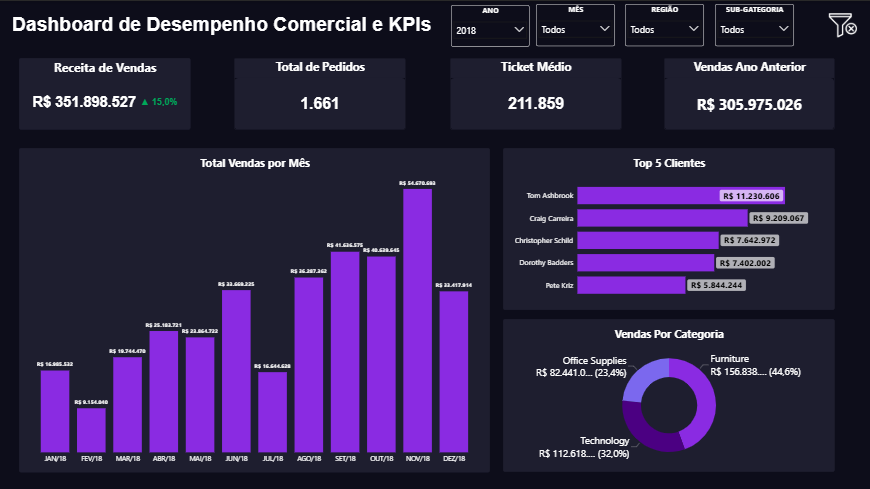

The page's visual inventory and layout, read from the dashboard file:
{"tool":"powerbi","page":{"name":"Home","canvas":[1920,1080],"ordinal":0},"visuals":[{"type":"htmlContent443BE3AD55E043BF878BED274D3A6855","title":"Receita de Vendas","fields":{"content":["Medidas - Vendas.Vendas com Card"]},"box":[43.5,126,378,158.1],"z":0},{"type":"textbox","box":[29.4,25.7,933.1,79],"z":1000},{"type":"slicer","title":"ANO","fields":{"Values":["Calendario.Date.Variation.Hierarquia de datas.Ano1"]},"box":[995.5,9.2,172.7,91.8],"z":2000},{"type":"slicer","title":"REGIÃO","fields":{"Values":["D_Região.Region"]},"box":[1378.8,7.5,173.8,92.5],"z":3000},{"type":"clusteredColumnChart","title":"Total Vendas por Mês","fields":{"Y":["Medidas - Vendas.Total Vendas"],"Category":["Calendario.MesConcat"]},"box":[43.5,323.1,1037.9,714.8],"z":4000},{"type":"cardVisual","title":"Total de Pedidos","fields":{"Data":["Medidas - Vendas.Total Pedidos"]},"box":[517.8,126,378,158.1],"z":5000},{"type":"cardVisual","title":"Ticket Médio","fields":{"Data":["Medidas - Vendas.Ticket Médio"]},"box":[994.4,126,378,158.1],"z":6000},{"type":"cardVisual","title":"Vendas Ano Anterior","fields":{"Data":["Medidas - Vendas.Vendas Ano Anterior"]},"box":[1466.3,126,375.8,158.1],"z":7000},{"type":"clusteredBarChart","title":"Top 5 Clientes ","fields":{"Y":["Medidas - Vendas.Top 5 Clientes Vendas"],"Category":["D_Clientes.Customer Name"]},"box":[1111.2,323.1,730.9,357.4],"z":8000},{"type":"donutChart","title":"Vendas Por Categoria","fields":{"Category":["D_Categoria.Category"],"Y":["Medidas - Vendas.Total Vendas"]},"box":[1111.2,701.1,730.9,336.8],"z":9000},{"type":"slicer","title":"MÊS","fields":{"Values":["Calendario.Date.Variation.Hierarquia de datas.Mês"]},"box":[1183.8,7.5,173.8,92.5],"z":9001},{"type":"slicer","title":"SUB-GATEGORIA","fields":{"Values":["D_Categoria.Sub-Category"]},"box":[1578.8,7.5,173.8,92.5],"z":9002},{"type":"image","box":[1814.6,6.9,91.6,93.9],"z":9003}]}

Visuals, with their boxes in screenshot pixels (x1, y1, x2, y2), scaled from the page's 1920x1080 canvas onto the 870x489 screenshot:
"Receita de Vendas" htmlContent443BE3AD55E043BF878BED274D3A6855: 20/57/191/129
textbox: 13/12/436/47
"ANO" slicer: 451/4/529/46
"REGIÃO" slicer: 625/3/704/45
"Total Vendas por Mês" clusteredColumnChart: 20/146/490/470
"Total de Pedidos" cardVisual: 235/57/406/129
"Ticket Médio" cardVisual: 451/57/622/129
"Vendas Ano Anterior" cardVisual: 664/57/835/129
"Top 5 Clientes " clusteredBarChart: 504/146/835/308
"Vendas Por Categoria" donutChart: 504/317/835/470
"MÊS" slicer: 536/3/615/45
"SUB-GATEGORIA" slicer: 715/3/794/45
image: 822/3/864/46
